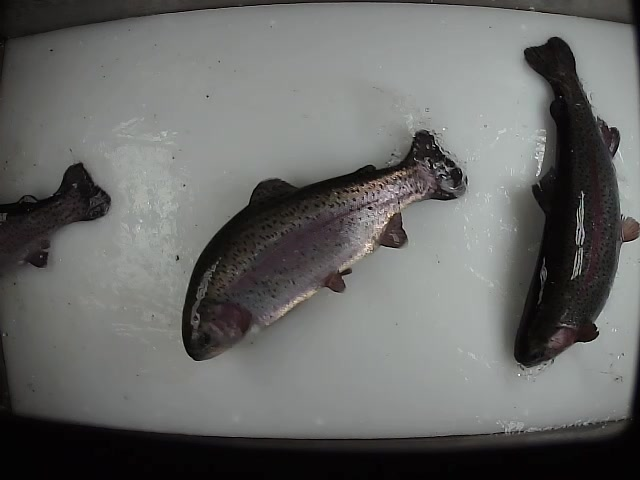fish: (179, 123, 479, 365), (510, 34, 640, 370), (1, 160, 112, 288)
